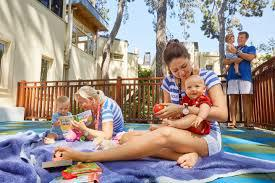child: (169, 75, 213, 133), (43, 94, 77, 144), (219, 31, 241, 77)
